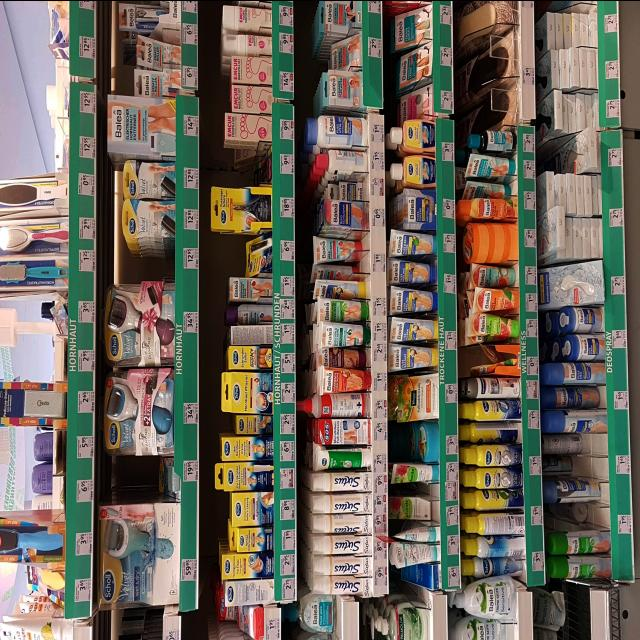empty_space: (125, 455, 175, 493), (134, 258, 170, 278), (572, 456, 605, 476), (577, 431, 607, 449), (232, 168, 260, 184), (586, 506, 609, 522)
